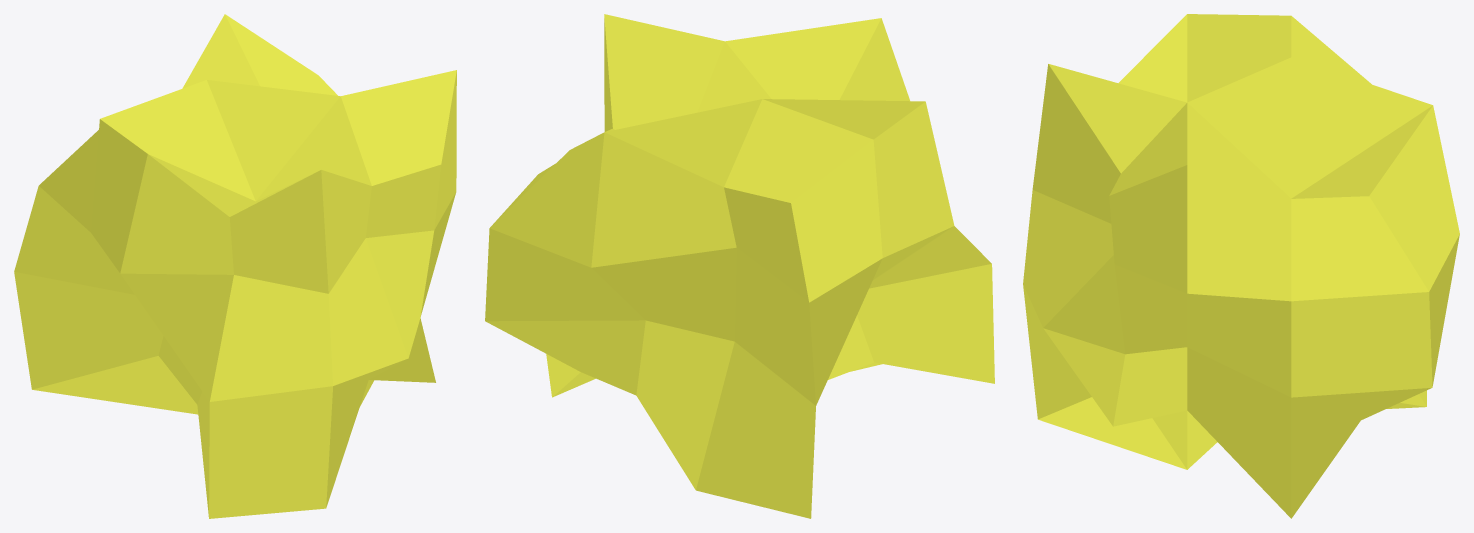
File: greenTeamShape.glb
3 views of the same model, side by side, from view 1: azimuth 30°, elevation 25°; view 2: azimuth 150°, elevation 25°; view 3: azimuth 270°, elevation 25° (orthographic). The views are drawn at different scales.
Parts seen in each view (by area): view 1: Cube; view 2: Cube; view 3: Cube.
Boxes of the visible parts, x1,y1,x2,y2 form: Cube: (14,14,456,518); Cube: (485,14,994,518); Cube: (1023,14,1459,518).
Bounding box in the file's own units: 2.78 × 2.6 × 2.8.
